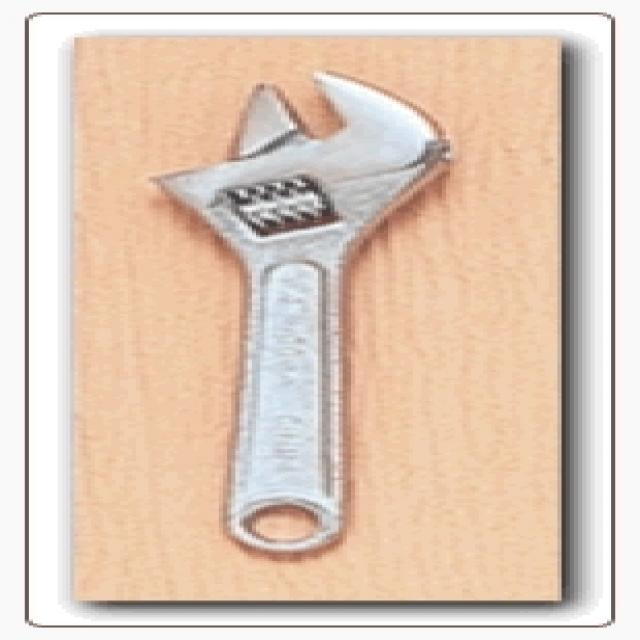wrench: (136, 63, 476, 561)
